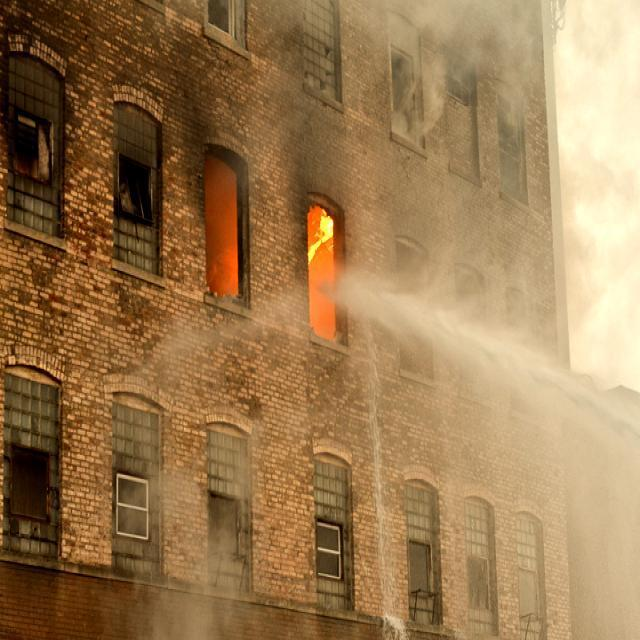Fire: (308, 200, 337, 272)
Smoke: (324, 11, 640, 584)
